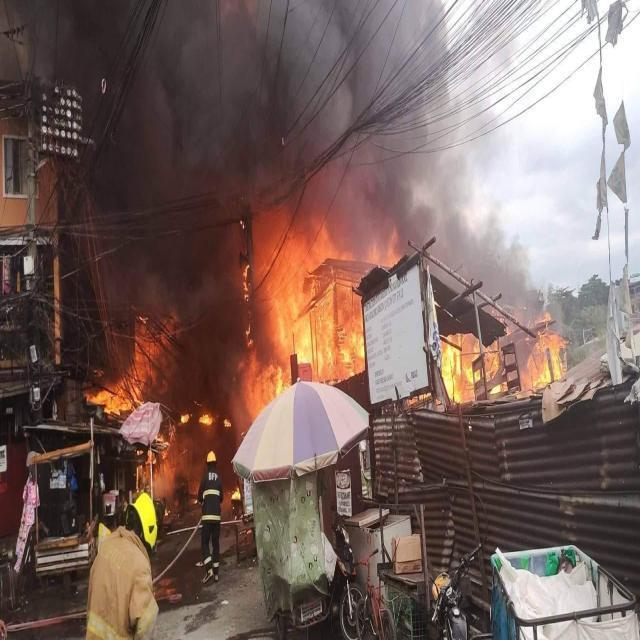Fire: (432, 235, 582, 401), (249, 232, 402, 382)
Smoke: (66, 0, 470, 235)
